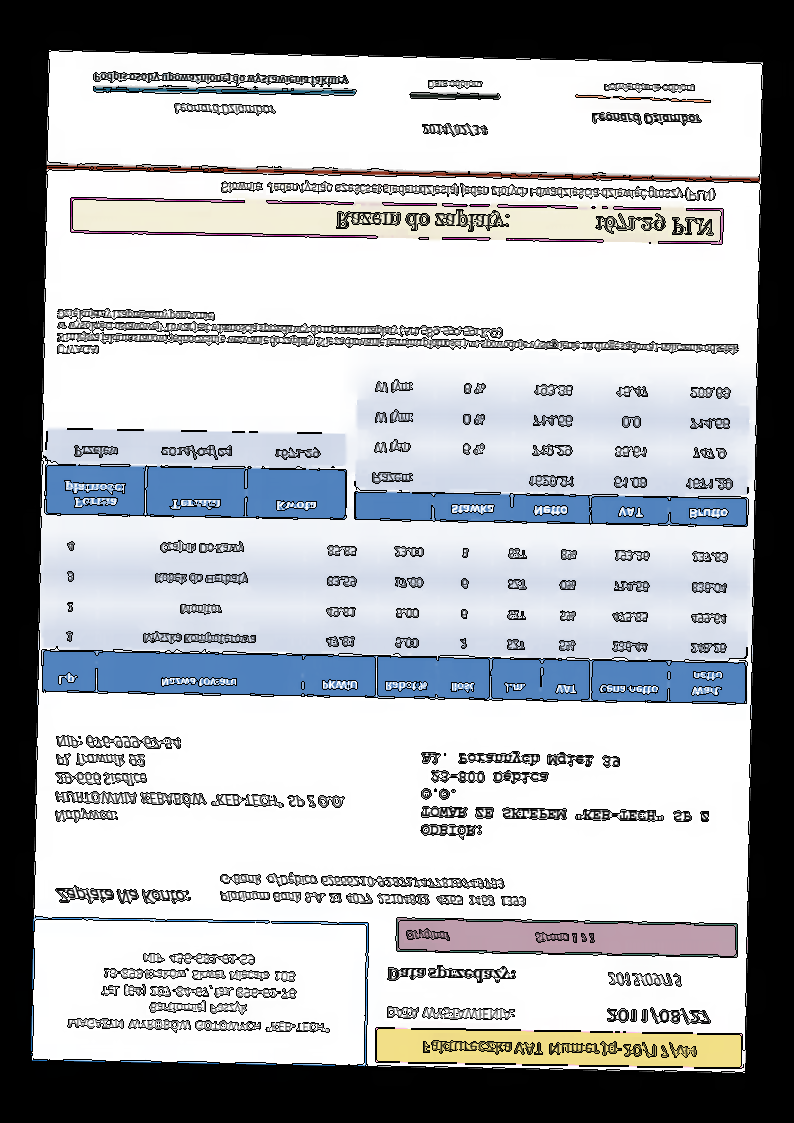Table: (41, 526, 749, 706), (353, 368, 751, 528), (44, 426, 348, 521)
TextBox: (54, 305, 742, 368), (417, 748, 715, 847), (51, 732, 346, 830), (65, 948, 333, 1037), (219, 176, 715, 206), (333, 205, 716, 240), (217, 869, 529, 910), (419, 1037, 697, 1061), (91, 69, 351, 90), (404, 926, 595, 945), (53, 884, 192, 908), (384, 963, 519, 985), (384, 1003, 516, 1024), (605, 1003, 712, 1026), (588, 111, 701, 128), (172, 101, 278, 119), (606, 970, 682, 989), (602, 81, 696, 95), (421, 121, 488, 139), (424, 77, 483, 93)
